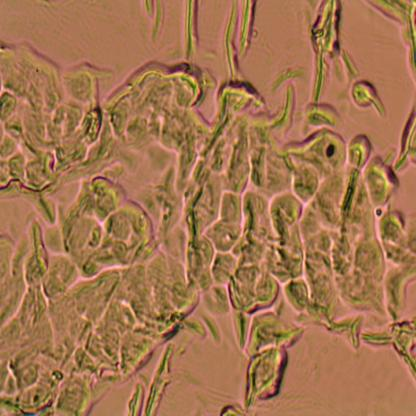Stage I: (0, 37, 416, 416)
